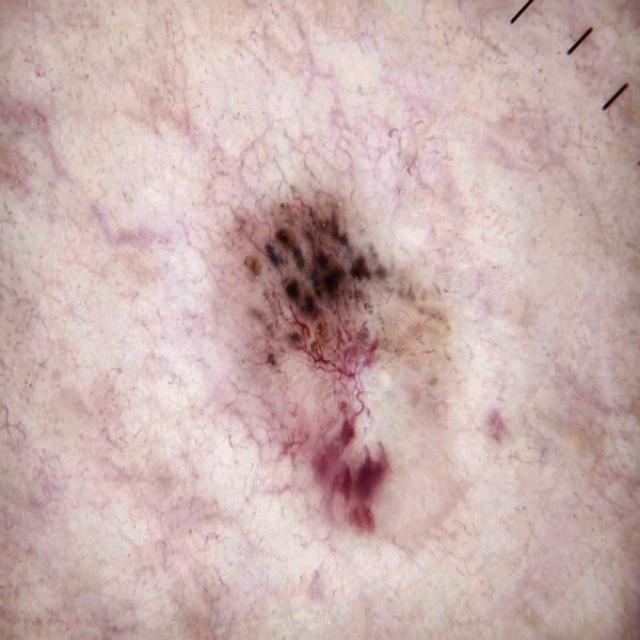Basal-Cell-Carcinoma-BCC-: (187, 187, 508, 583)
